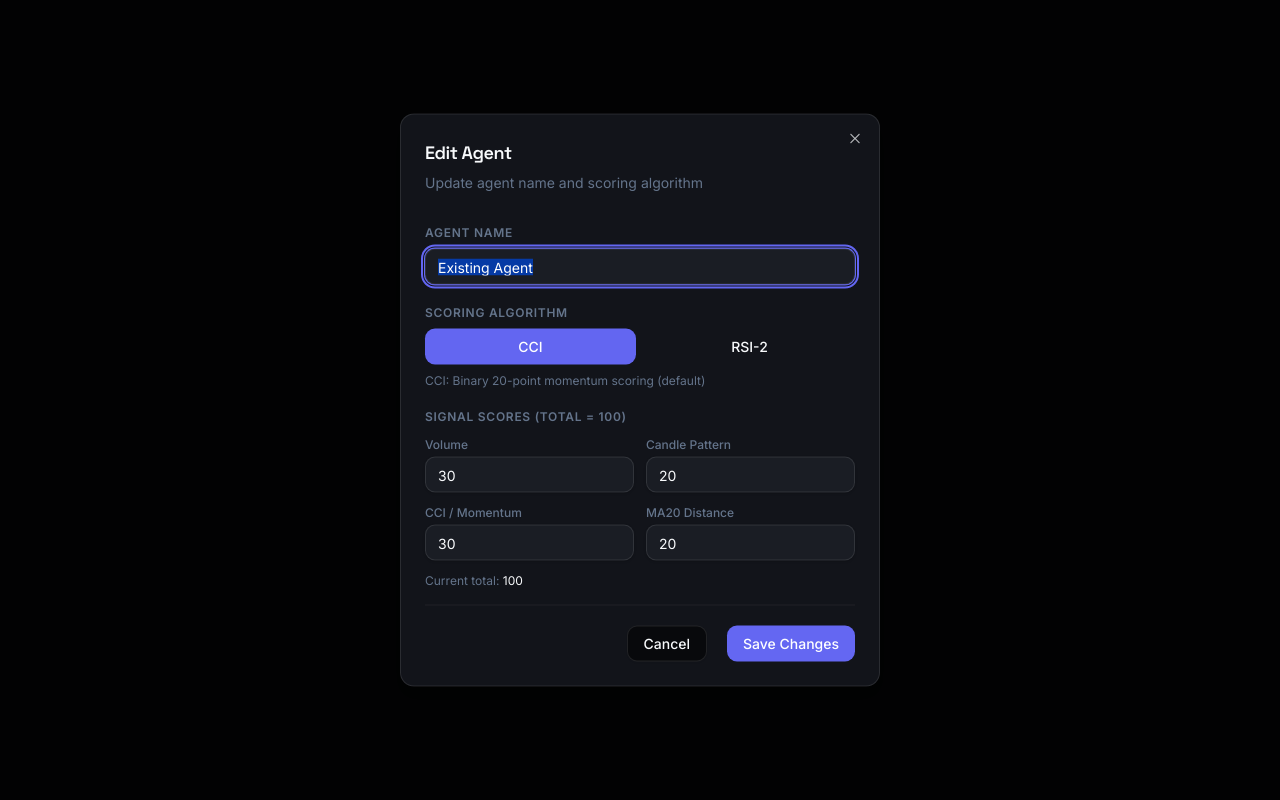
Test case: EditAgentDialog › blocks submit when score total is invalid
Replace the text in the number field labelled "Volume" with "40" at (530, 474), box [425,456,634,492]
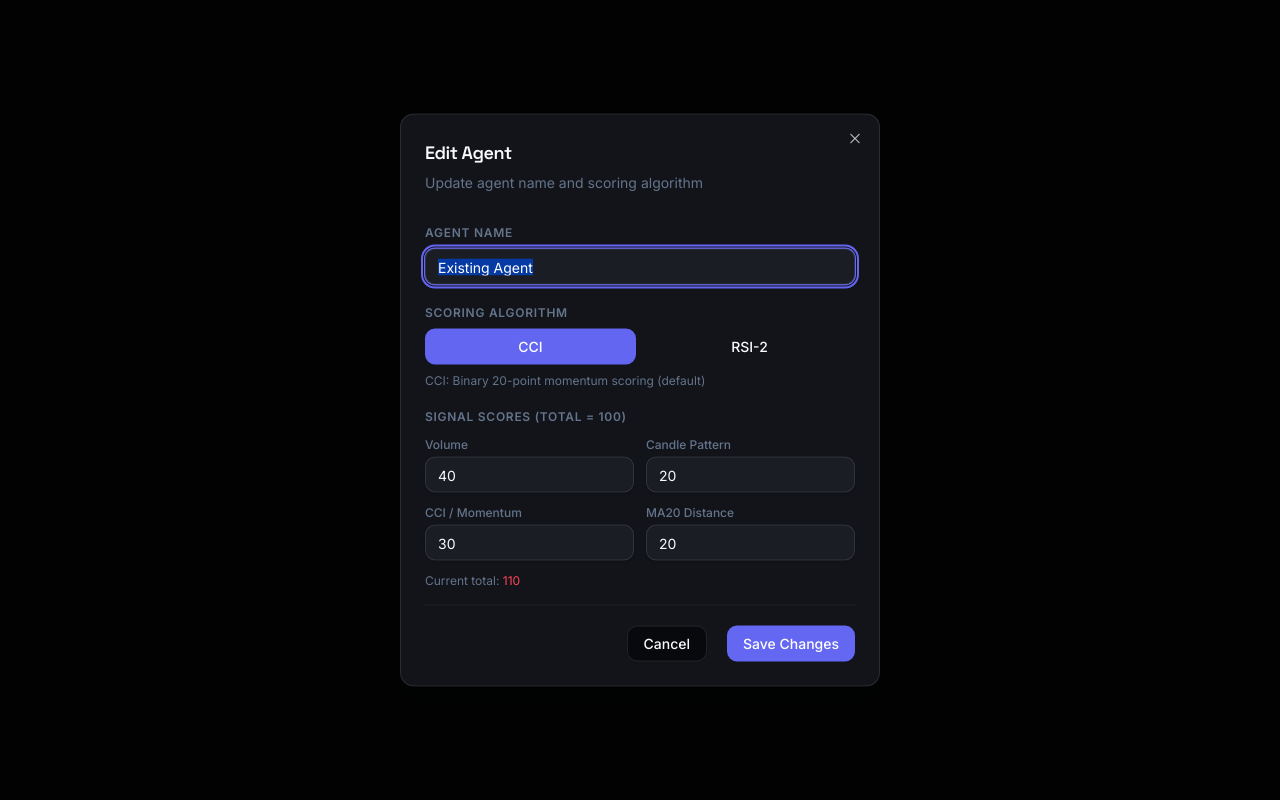
Click the button "Save Changes" at (791, 644), box [727,626,855,662]
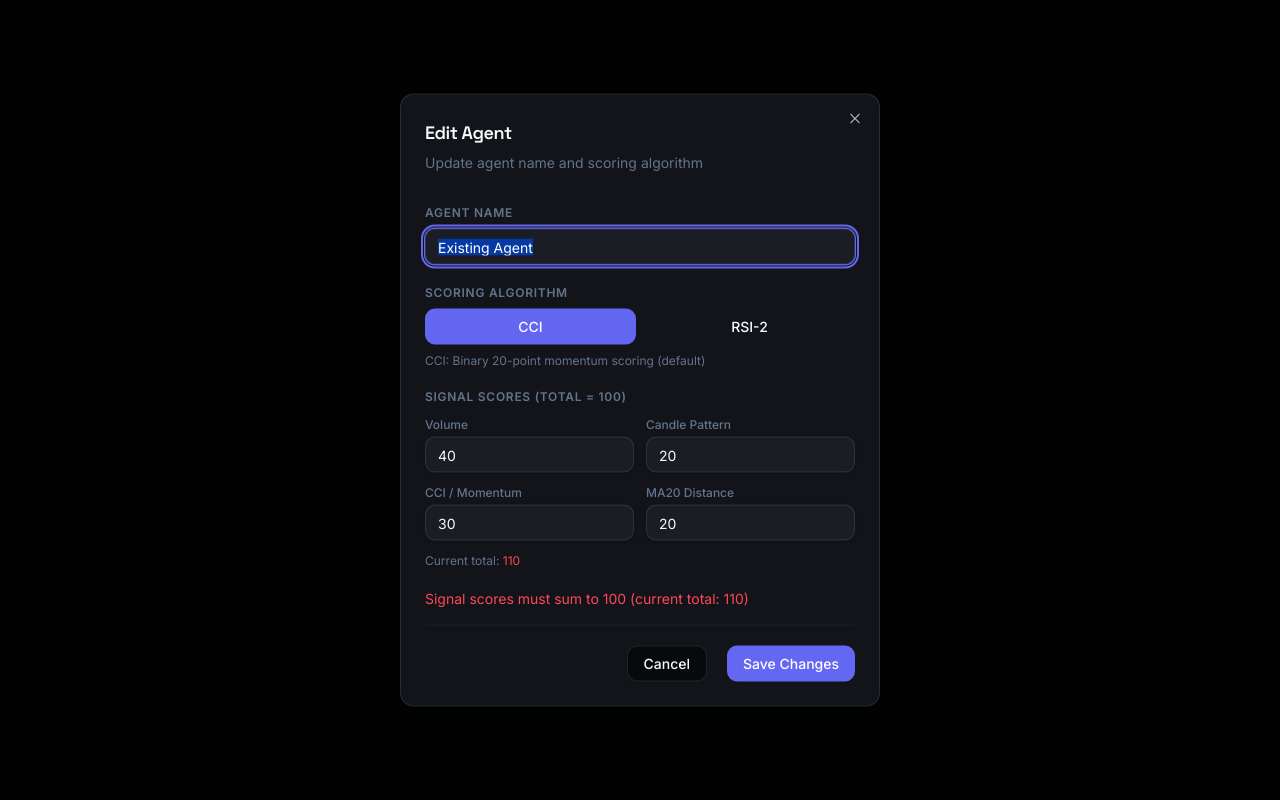
Expected: the text "Signal scores must sum to 100 (current total: 110)" is shown, [425,590,749,606]
